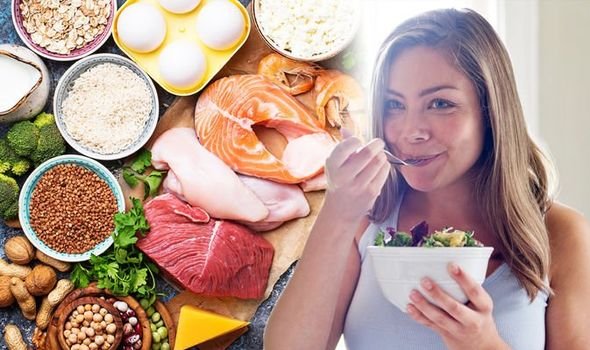eating: (303, 18, 543, 262)
